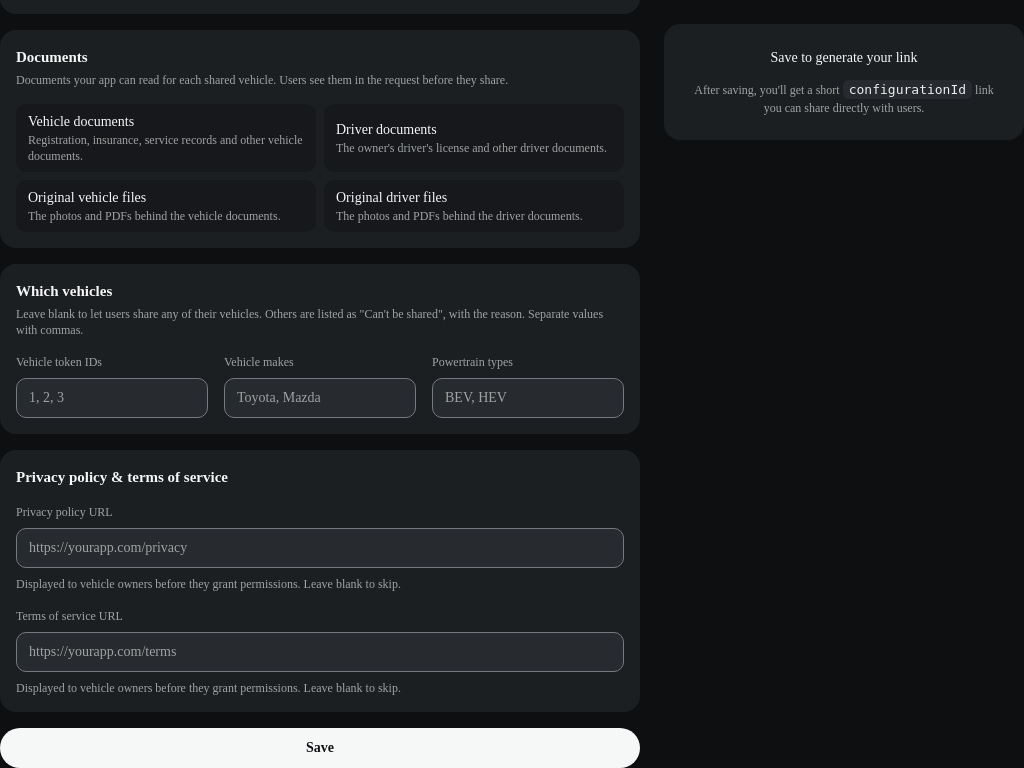
ConfigurationForm › needs a template ID for a template share
(page scrolled)
Click the button "Save". click: (320, 748)
box: [0, 728, 640, 767]
(page scrolled)
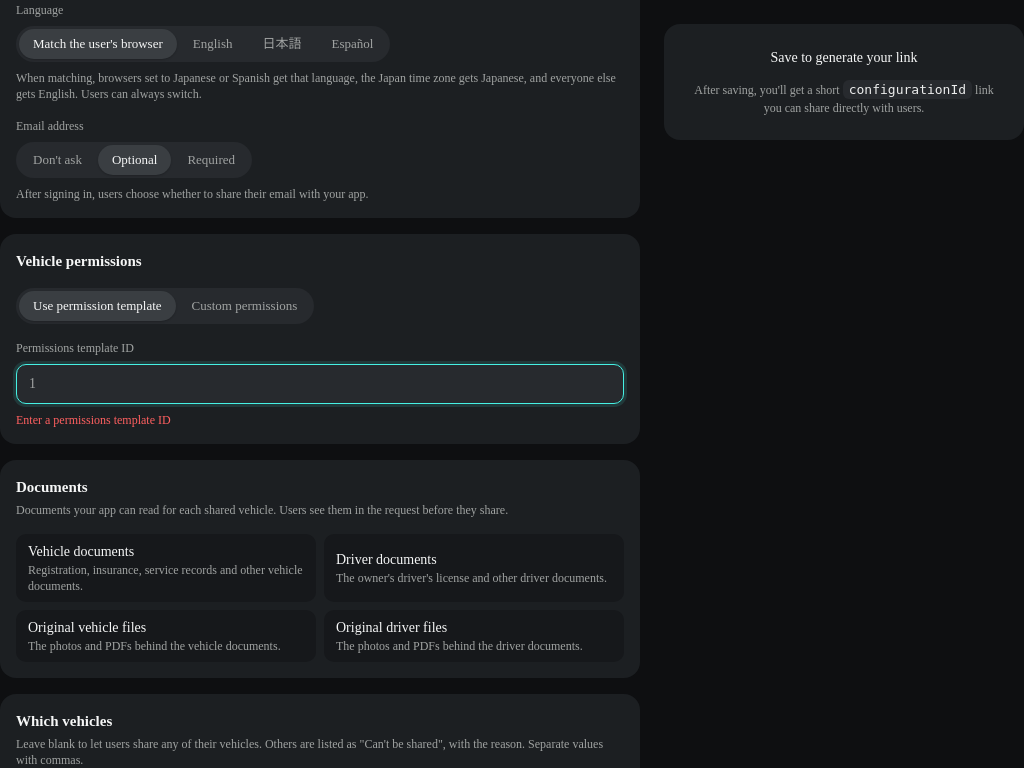
Result: the text "Enter a permissions template ID" is shown at [16, 413, 171, 427]
